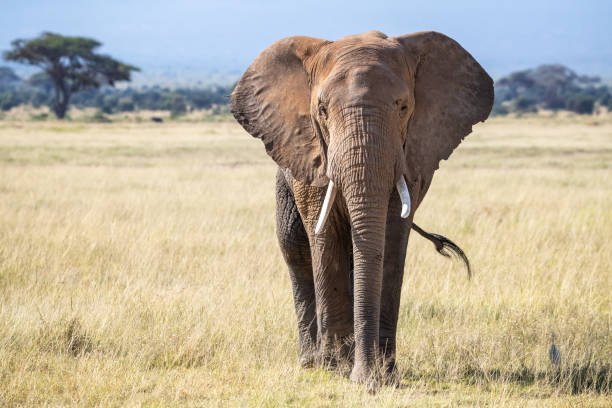africanelephant: (291, 45, 437, 242)
